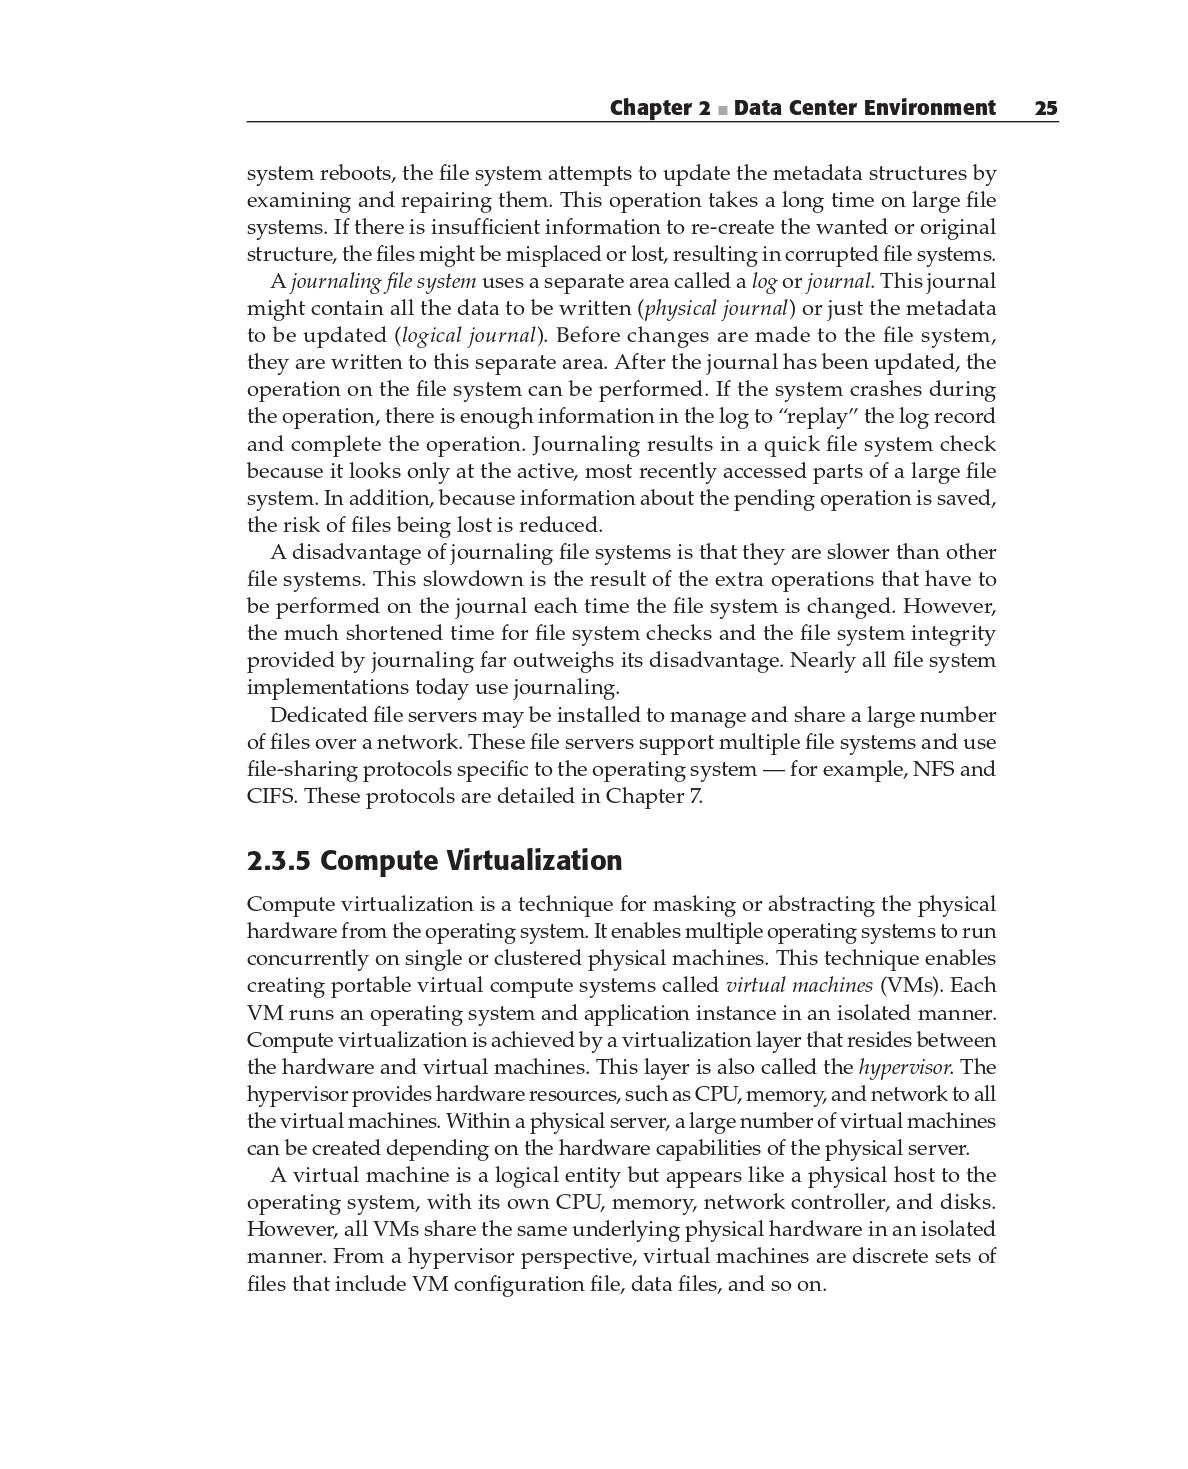Paragraph: (249, 263, 999, 537), (245, 897, 1001, 1160), (242, 541, 999, 695), (245, 1165, 1001, 1303), (234, 158, 1005, 269), (249, 701, 999, 808), (242, 844, 634, 885), (599, 93, 1066, 122)
